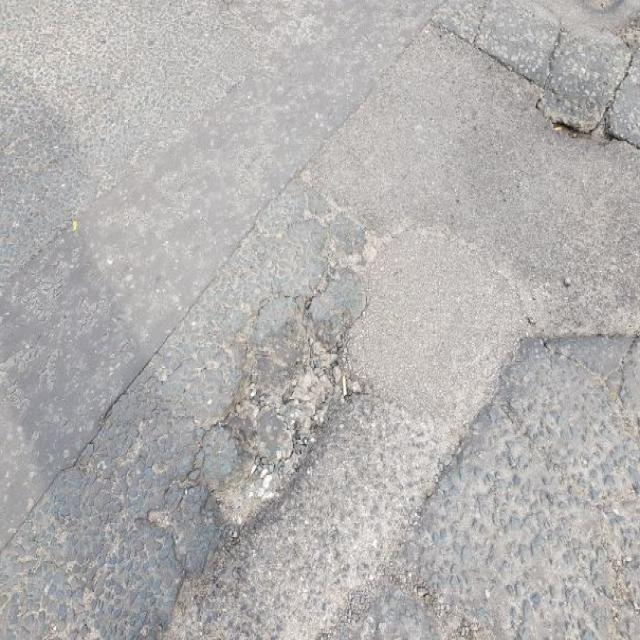Pothole: (145, 259, 378, 564)
